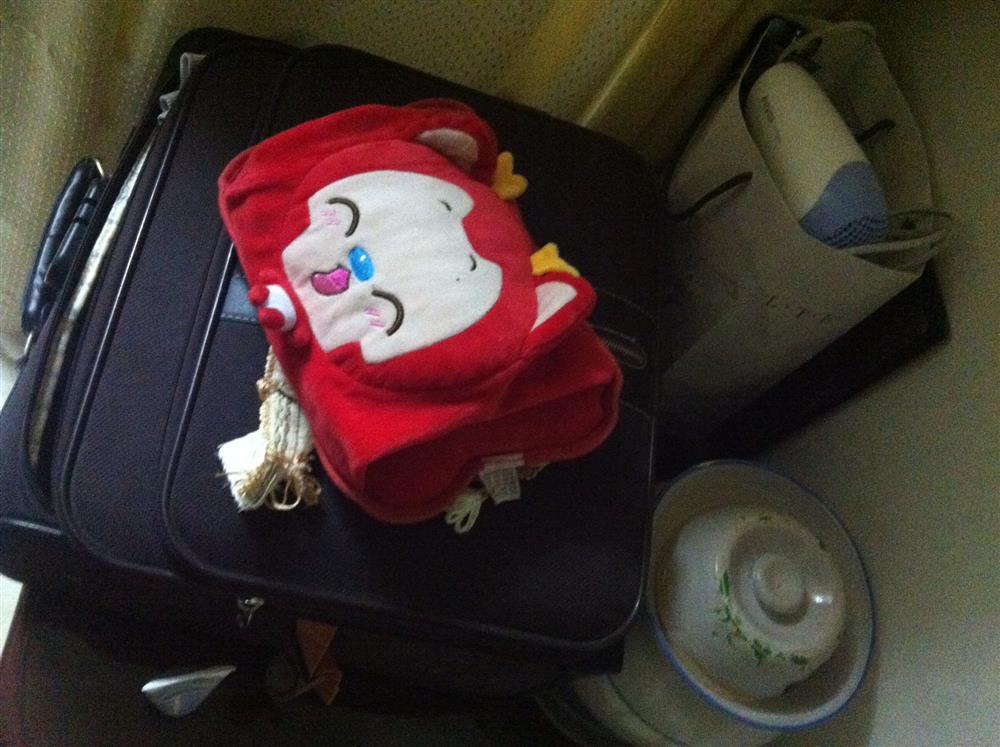Ali: (264, 152, 590, 457)
